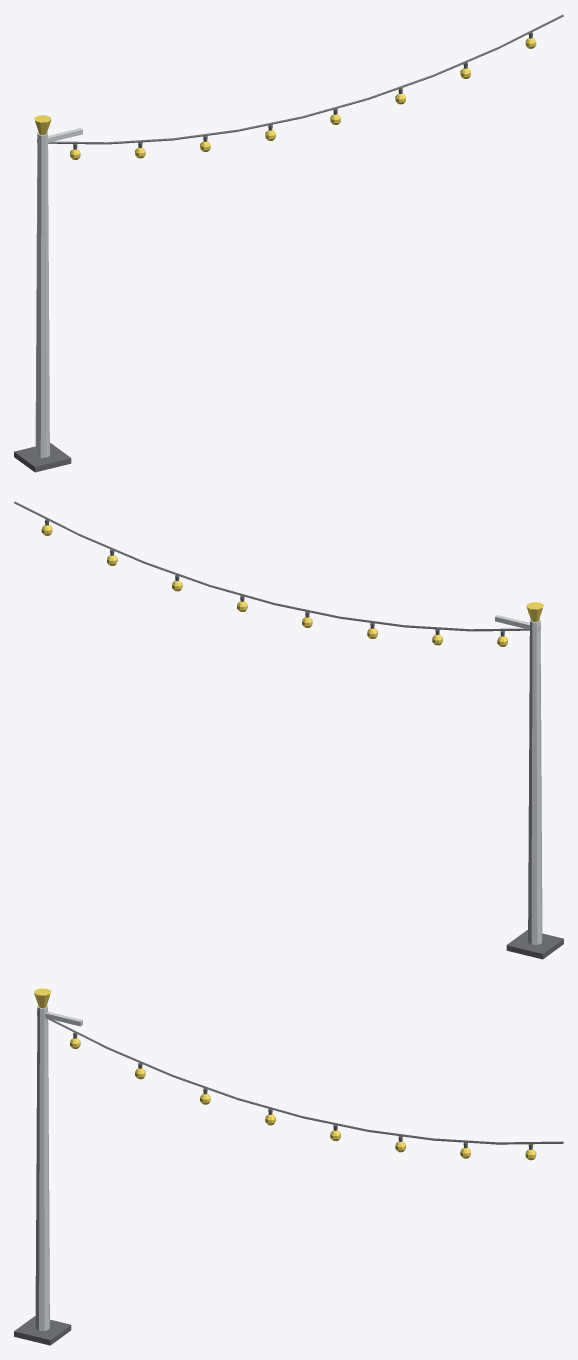
3 renders of one model, top to bottom at view 1: azimuth 30°, elevation 25°; view 2: azimuth 150°, elevation 25°; view 3: azimuth 330°, elevation 25°, orthographic.
Visible parts, largest first — view 1: string-light-run-on-poles-steel, string-light-run-on-poles-charcoal, string-light-run-on-poles-canary; view 2: string-light-run-on-poles-steel, string-light-run-on-poles-charcoal, string-light-run-on-poles-canary; view 3: string-light-run-on-poles-steel, string-light-run-on-poles-charcoal, string-light-run-on-poles-canary.
Boxes of the visible parts, box(x1,y1,x2,y2) form: string-light-run-on-poles-steel: box(35, 128, 82, 457); string-light-run-on-poles-charcoal: box(14, 14, 563, 472); string-light-run-on-poles-canary: box(34, 38, 536, 159); string-light-run-on-poles-steel: box(495, 615, 542, 944); string-light-run-on-poles-charcoal: box(14, 501, 563, 959); string-light-run-on-poles-canary: box(41, 525, 543, 646); string-light-run-on-poles-steel: box(35, 1005, 82, 1330); string-light-run-on-poles-charcoal: box(14, 1018, 563, 1345); string-light-run-on-poles-canary: box(34, 988, 536, 1160).
Size of the model in its own units: 6.21 by 3.76 by 0.4202.
